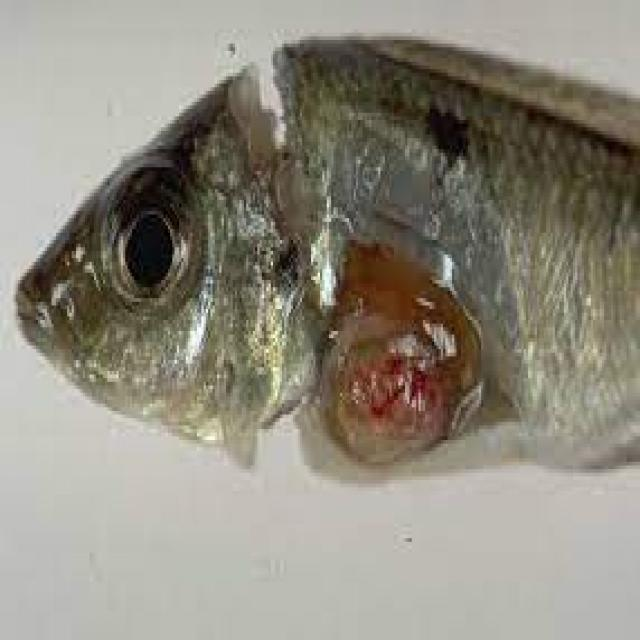EUS Disease: (8, 38, 638, 488), (269, 247, 548, 462), (198, 36, 349, 238)
